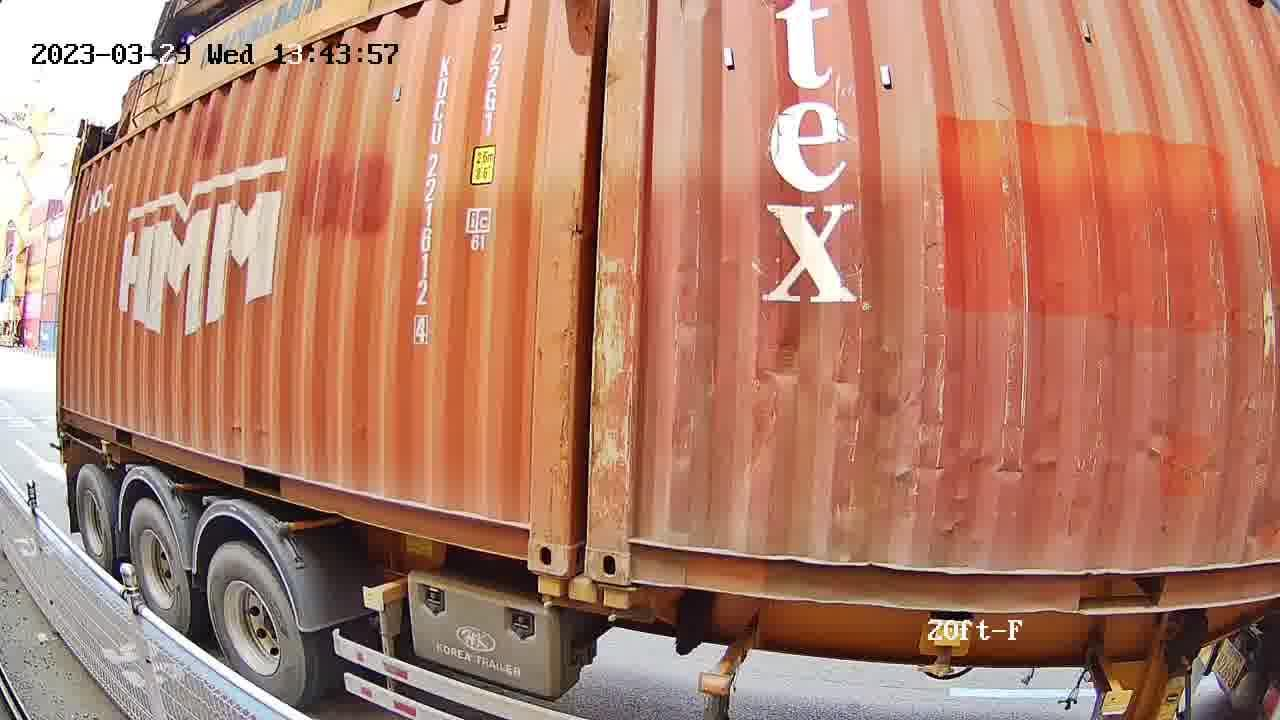Cone: (592, 584, 632, 622), (529, 571, 566, 610)
Hole_L: (586, 514, 678, 590)
Hole_R: (495, 494, 570, 576)
Tire: (205, 545, 305, 710), (129, 501, 188, 639), (77, 468, 113, 573)
